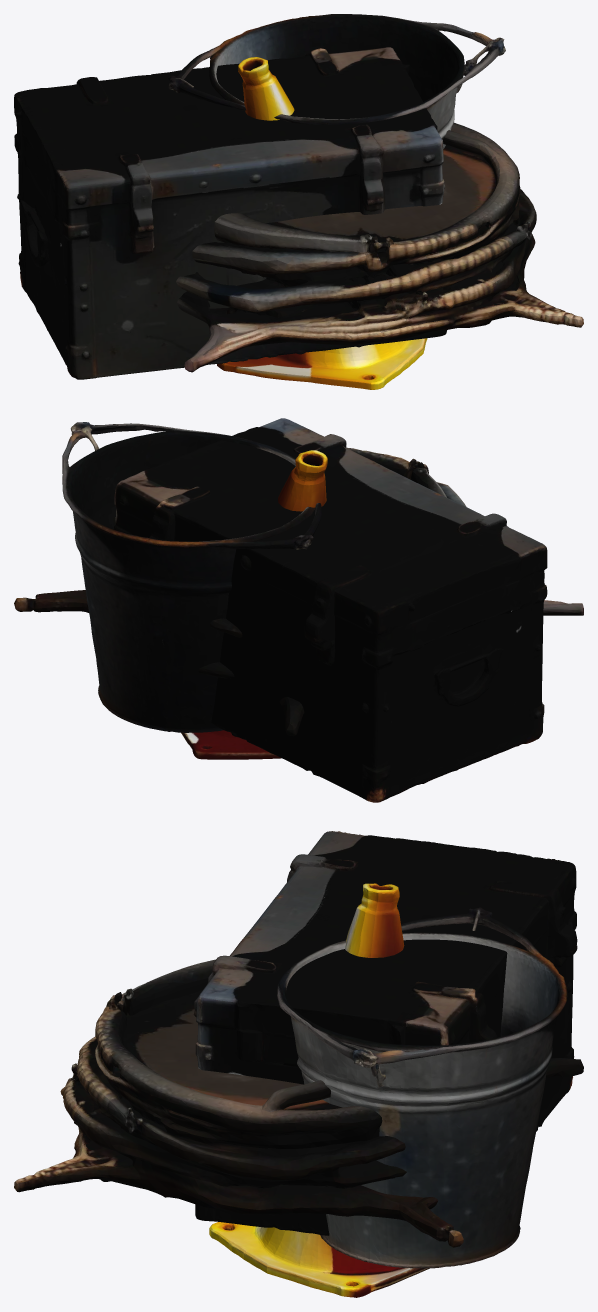
Rendered from scenegen.glb.
3 renders of one model, top to bottom at view 1: azimuth 30°, elevation 25°; view 2: azimuth 150°, elevation 25°; view 3: azimuth 270°, elevation 25°, orthographic. The views are drawn at different scales.
Parts seen in each view (by area): view 1: geometry_3, geometry_4, geometry_2, geometry_0; view 2: geometry_3, geometry_2, geometry_4, geometry_0; view 3: geometry_3, geometry_4, geometry_2, geometry_0.
Boxes of the visible parts, x1,y1,x2,y2 form: geometry_3: [14, 47, 446, 379]; geometry_4: [176, 122, 583, 372]; geometry_2: [168, 14, 505, 148]; geometry_0: [217, 57, 427, 389]; geometry_3: [113, 418, 547, 802]; geometry_2: [62, 422, 321, 732]; geometry_4: [14, 447, 583, 736]; geometry_0: [181, 450, 327, 759]; geometry_3: [193, 831, 577, 1235]; geometry_4: [14, 959, 583, 1247]; geometry_2: [277, 907, 567, 1268]; geometry_0: [209, 883, 429, 1297].
Bounding box in the file's own units: 1.96 × 1.12 × 1.8.
Materials: 5 (5 with a texture image).
